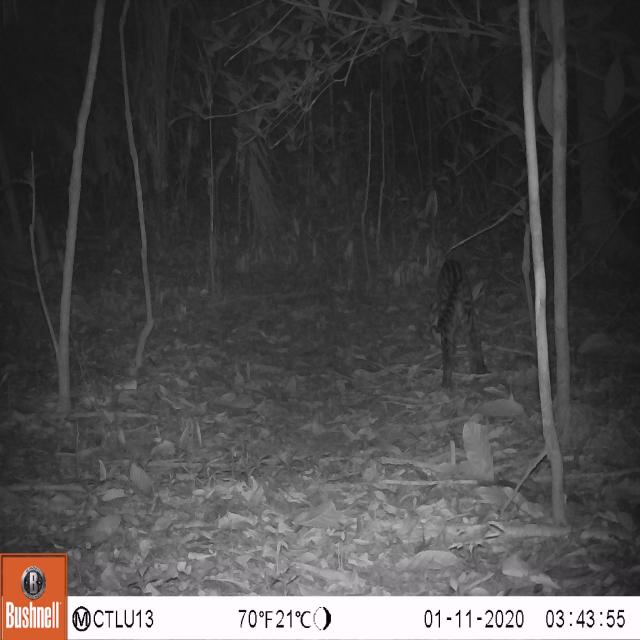Ocelote: (408, 228, 500, 406)
